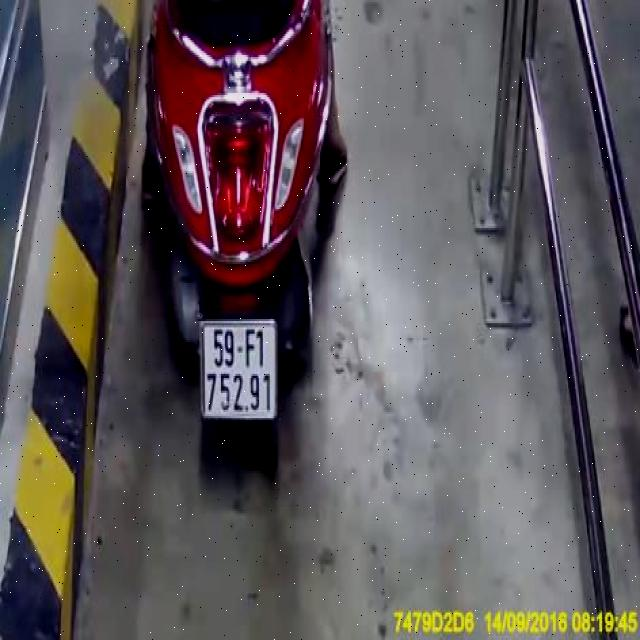1: (256, 328, 266, 372)
2: (232, 366, 246, 414)
5: (210, 324, 224, 369), (219, 369, 230, 417)
7: (204, 372, 219, 413)
9: (247, 367, 263, 412), (262, 366, 273, 417), (223, 329, 236, 368)
F: (243, 329, 257, 366)
